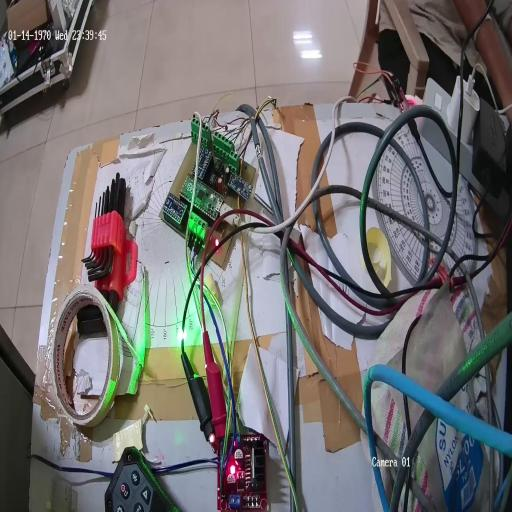laser: (174, 318, 188, 350)
